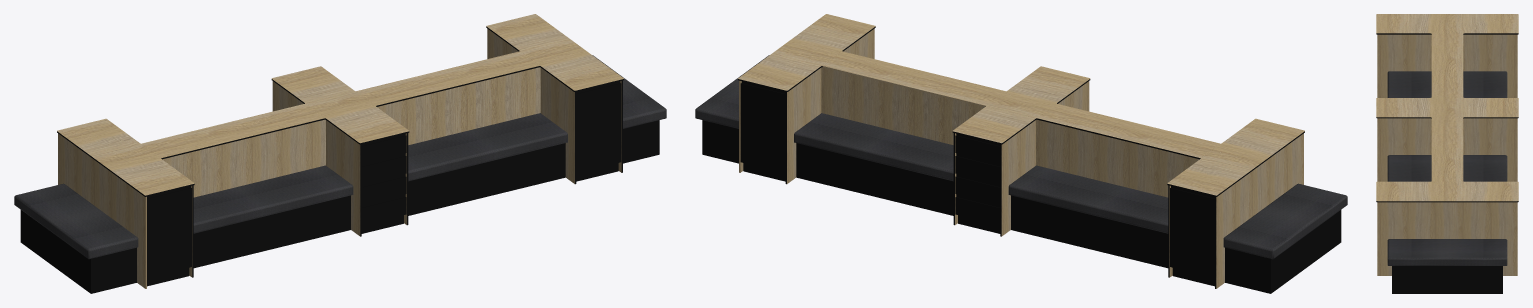
The model's file is kcoe_becnh.glb.
3 renders of one model, left to right at view 1: azimuth 30°, elevation 25°; view 2: azimuth 150°, elevation 25°; view 3: azimuth 270°, elevation 25°, orthographic. The views are drawn at different scales.
Parts seen in each view (by area): view 1: CPL, Carcass, Door_04, Door_03, DR02_1, DR02_4, DR02_3, DR02_2; view 2: CPL, Carcass, Door_01, Door_02, DR01_1, DR01_4, DR01_2, DR01_3; view 3: CPL, Carcass.
Boxes of the visible parts, <box> form: CPL: <box>57,14,623,288</box>; Carcass: <box>14,55,666,293</box>; Door_04: <box>576,83,621,172</box>; Door_03: <box>147,188,191,277</box>; DR02_1: <box>361,135,406,163</box>; DR02_4: <box>361,197,406,225</box>; DR02_3: <box>361,176,406,204</box>; DR02_2: <box>361,156,406,184</box>; CPL: <box>738,14,1304,288</box>; Carcass: <box>695,55,1347,293</box>; Door_01: <box>740,83,785,172</box>; Door_02: <box>1170,188,1214,277</box>; DR01_1: <box>955,135,1000,163</box>; DR01_4: <box>955,197,1000,225</box>; DR01_2: <box>955,156,1000,184</box>; DR01_3: <box>955,176,1000,204</box>; CPL: <box>1376,14,1518,275</box>; Carcass: <box>1387,71,1507,293</box>.
Bounding box in the file's own units: 5.8 × 0.9 × 1.54.
Materials: 3 (2 with a texture image).
